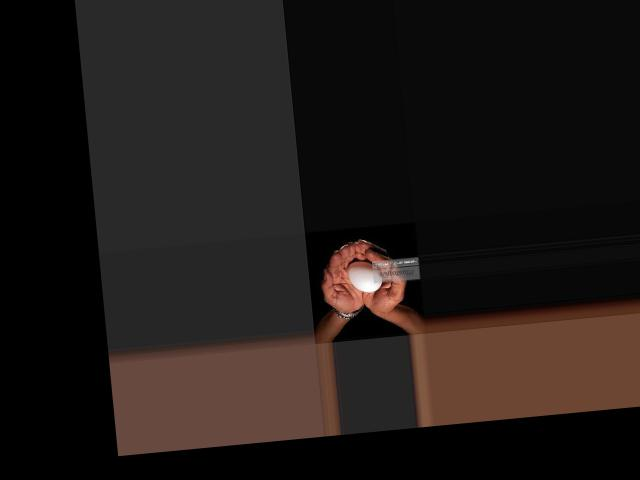egg: (346, 258, 382, 294)
